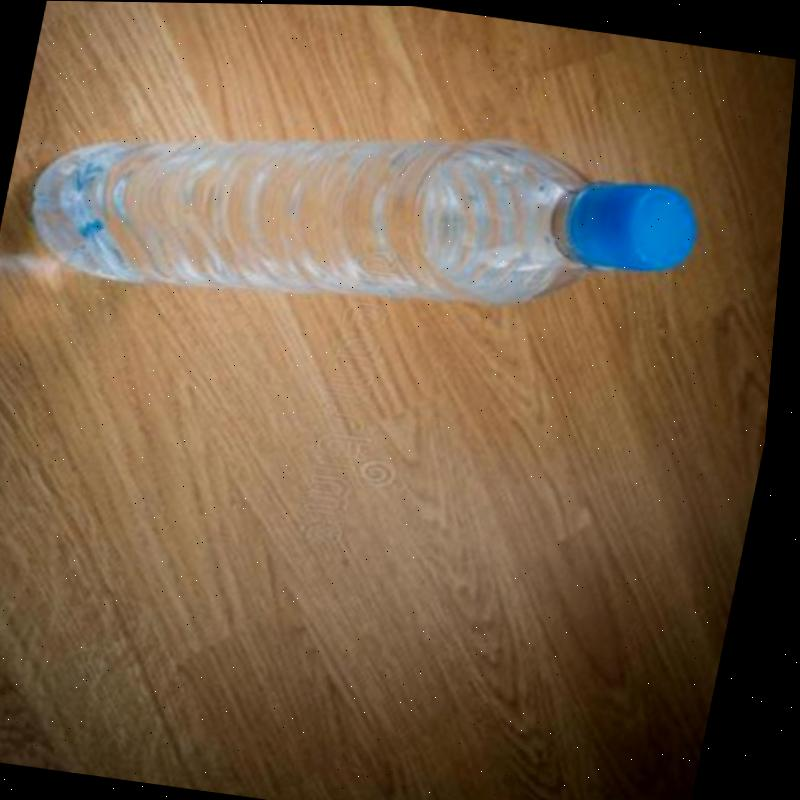botella: (19, 74, 716, 351)
